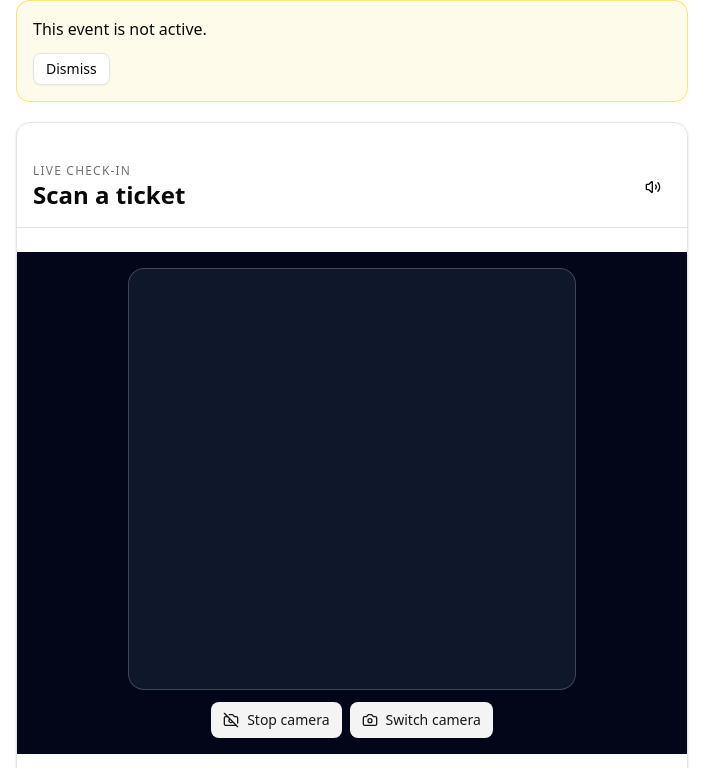
check-in scanner › submit_eventNotActive_outcomeRemainsUntilDismissed
Check: the message shows "not active", box [33,18,207,40]
What coordinates should you click on to do the following:
click the button "Dismiss"
I would click on:
 (71, 69)
Its box is [33,53,110,85].
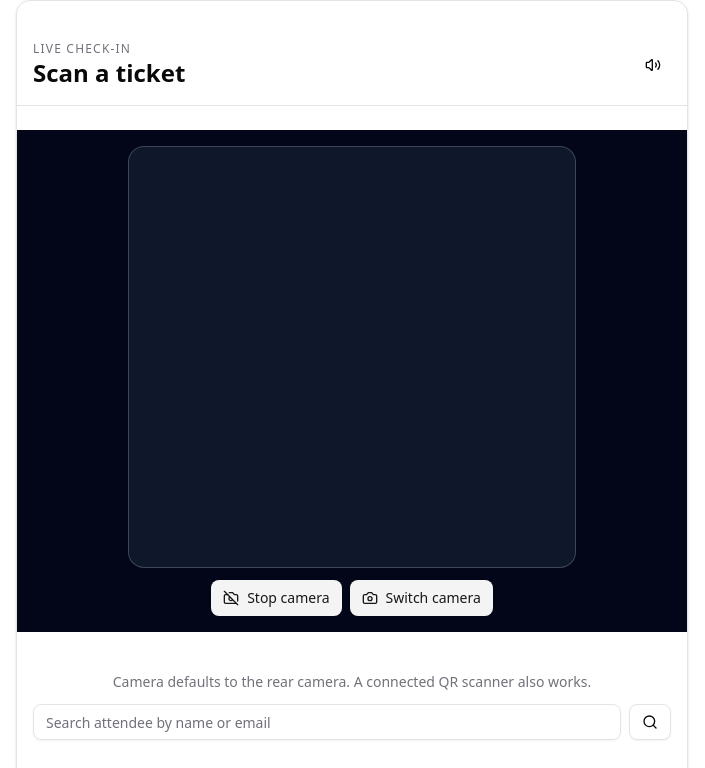
Check: the message "This event is not active. Dismiss" is gone
